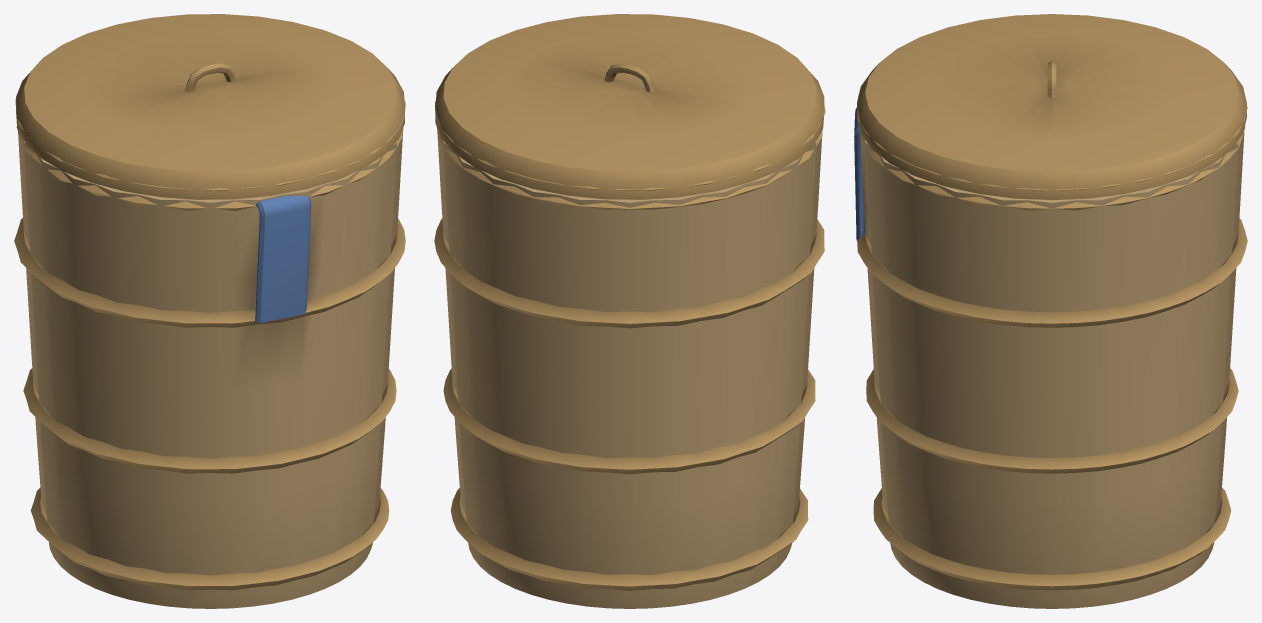
File: laundryHamper.glb
3 renders of one model, left to right at view 1: azimuth 30°, elevation 25°; view 2: azimuth 150°, elevation 25°; view 3: azimuth 270°, elevation 25°, orthographic.
Parts seen in each view (by area): view 1: laundryHamper, lid; view 2: laundryHamper, lid; view 3: laundryHamper, lid.
Boxes of the visible parts, x1,y1,x2,y2 form: laundryHamper: (14, 126, 405, 608); lid: (15, 14, 405, 199); laundryHamper: (434, 127, 824, 608); lid: (435, 14, 825, 199); laundryHamper: (854, 107, 1247, 608); lid: (857, 14, 1247, 200).
Bounding box in the file's own units: 0.4725 × 0.635 × 0.4766.
